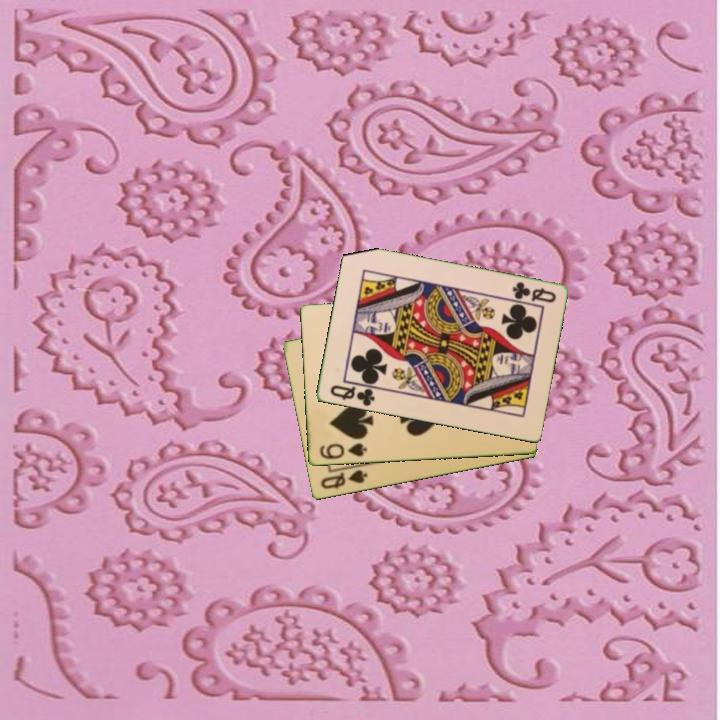6s: (316, 440, 369, 462)
Qc: (326, 379, 380, 409), (509, 278, 559, 306)
Qs: (317, 466, 370, 492)
